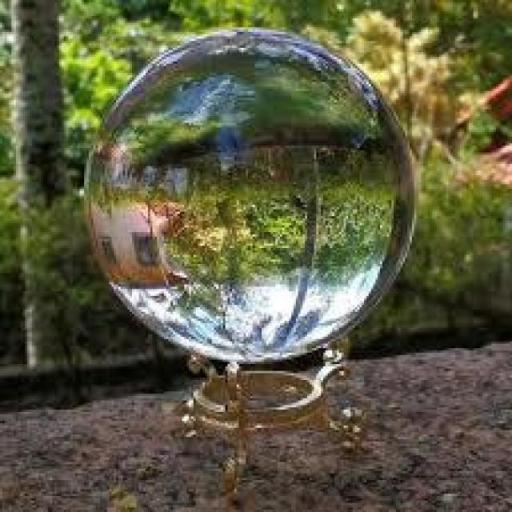glass: (62, 18, 436, 376)
